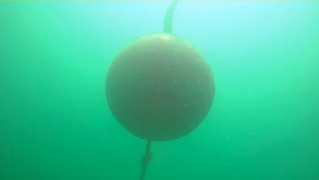bubble: (226, 135, 231, 140)
buoy: (103, 32, 215, 142)
